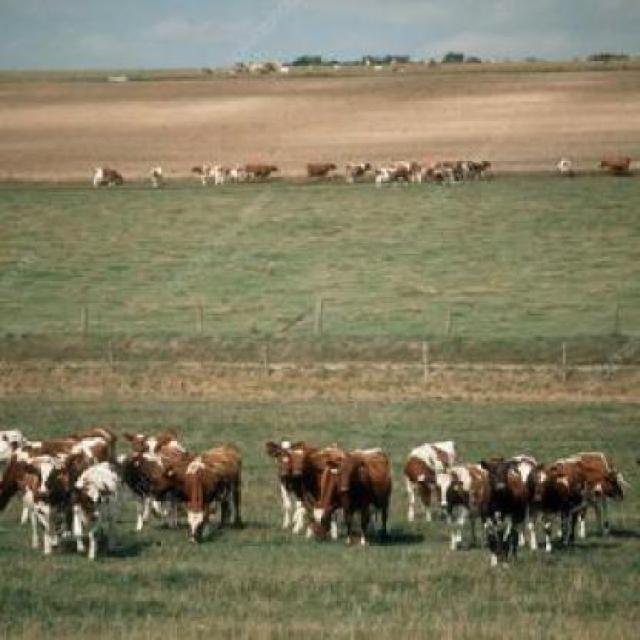Cow: (323, 446, 395, 546), (12, 452, 71, 562), (474, 454, 524, 572), (269, 436, 331, 530), (182, 444, 238, 544), (429, 458, 486, 556), (528, 451, 583, 552), (66, 454, 117, 557), (569, 449, 628, 538), (398, 436, 451, 526)
